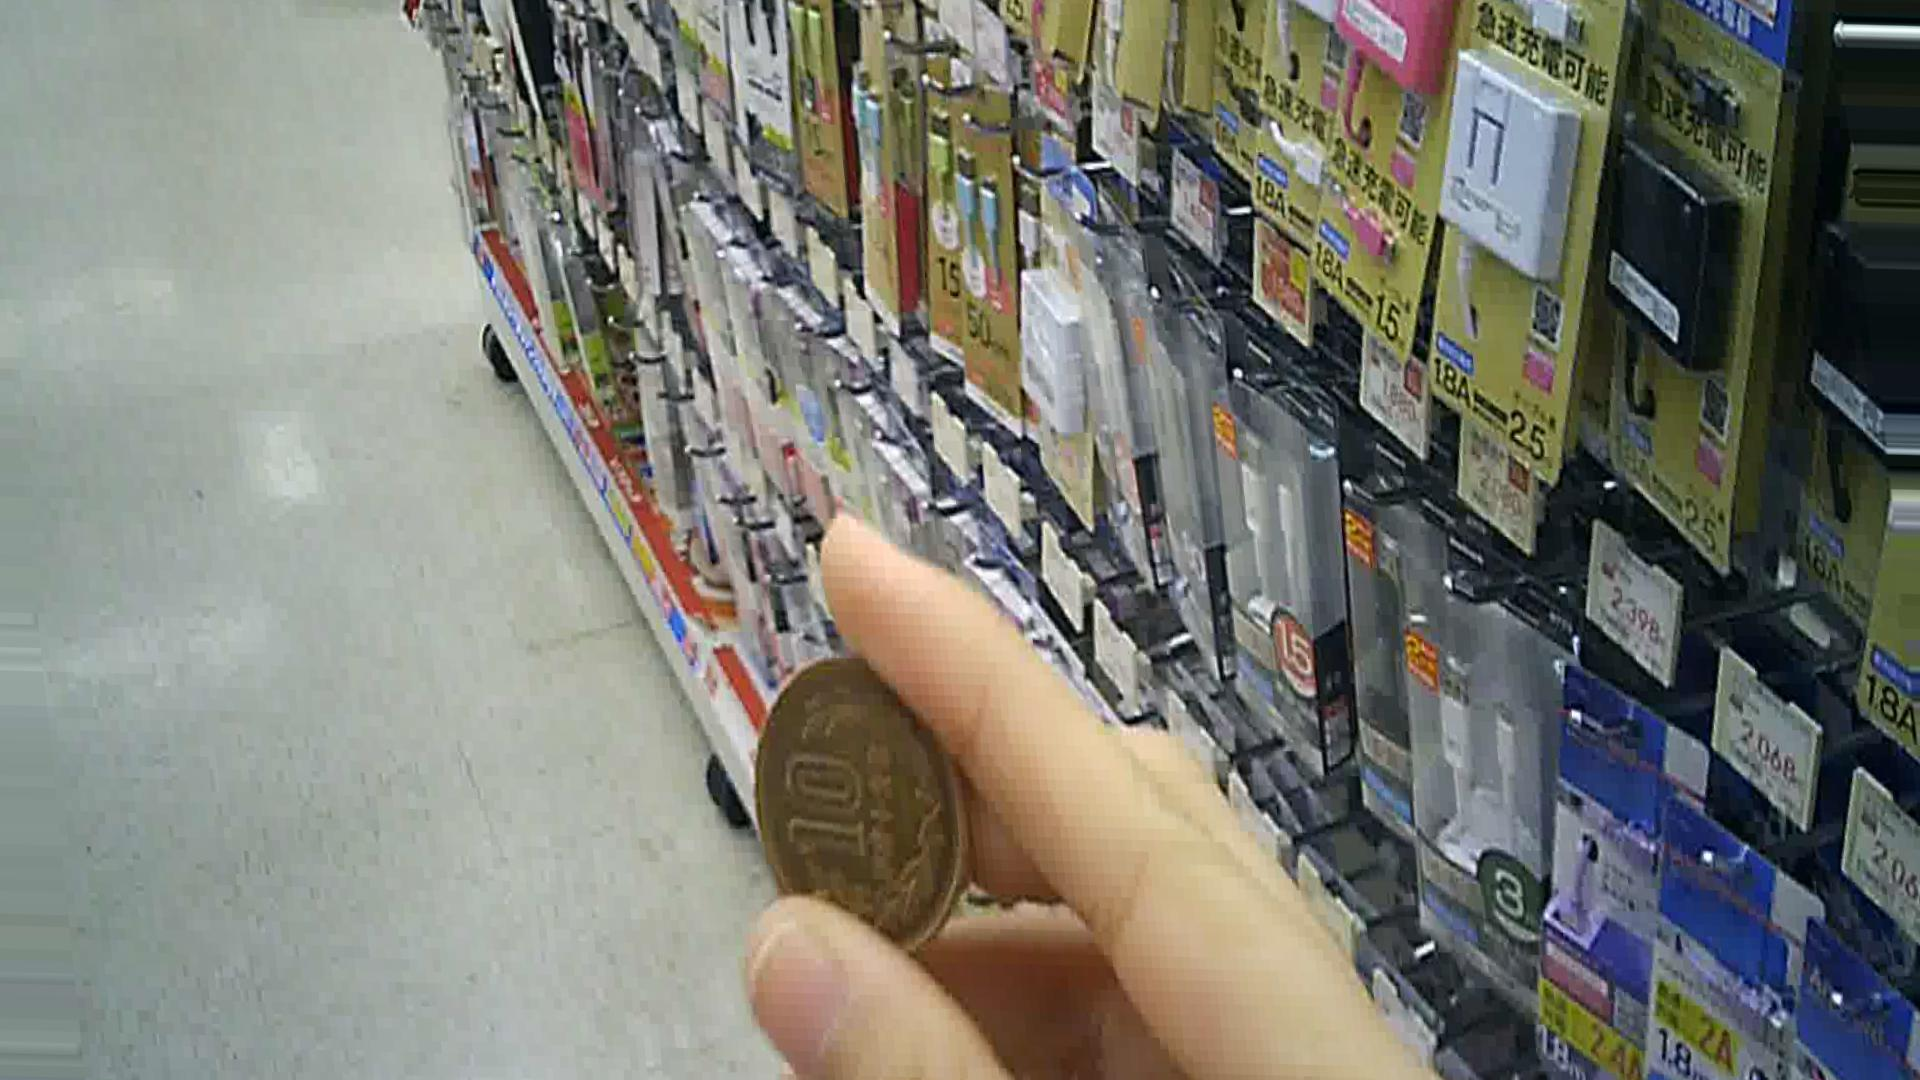10 Yen: (742, 659, 961, 955)
